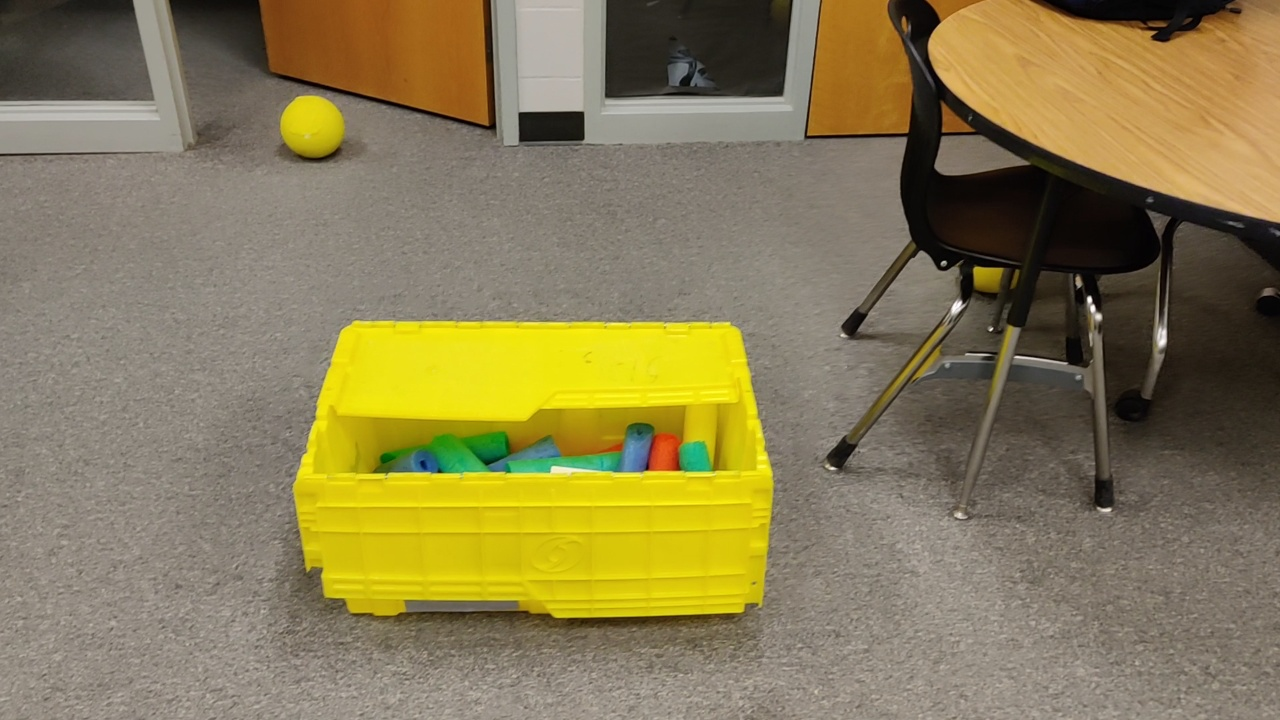Ball: (280, 93, 343, 159)
